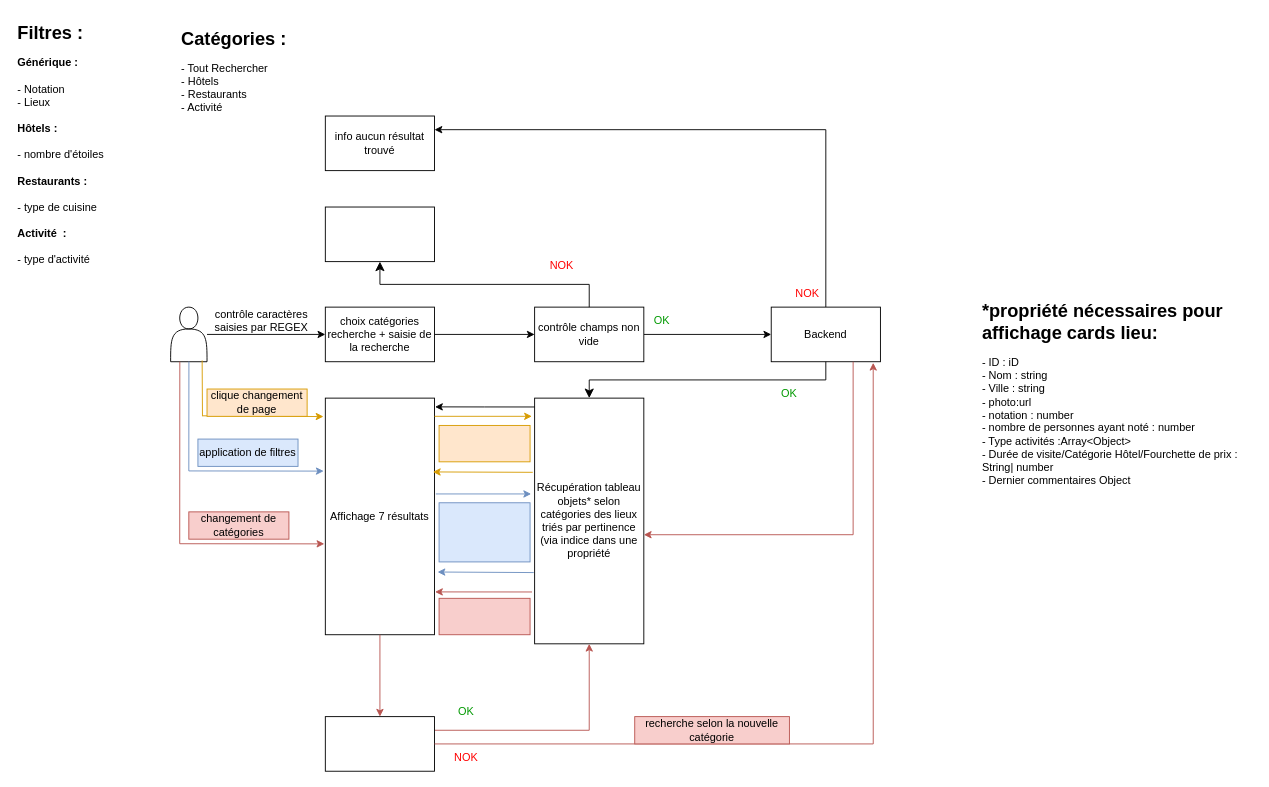
The diagram is 1269 pixels wide and 787 high, and some of its shapes have lost their labels. The shapes that lost their labels are listed below. From the top down, each one's box as (x1, y1, x2, y2) in pixels, then its label:
(324, 206, 435, 262): Info saisie non conforme
(438, 425, 530, 462): demande 7 résultats suivants ou précédents
(438, 502, 530, 562): demande renvoi résultat correspondant filtre
(438, 597, 530, 635): envoie résultat de la catégorie
(324, 716, 435, 771): catégorie tous recherchés précédement sélectionné?
